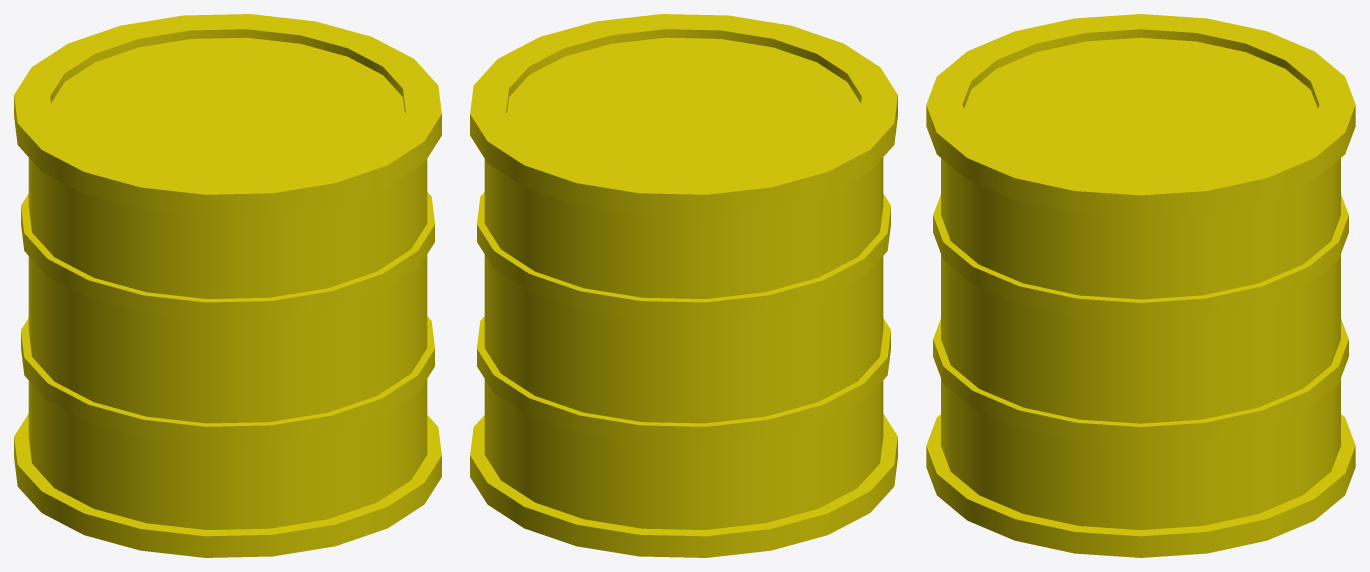
The model's file is Silo_low.fbx.
3 renders of one model, left to right at view 1: azimuth 30°, elevation 25°; view 2: azimuth 150°, elevation 25°; view 3: azimuth 270°, elevation 25°, orthographic.
Parts seen in each view (by area): view 1: polySurface2, lid; view 2: polySurface2, lid; view 3: polySurface2, lid.
Part boxes in pixels (<box>): polySurface2: <box>14,14,441,557</box>; lid: <box>51,37,404,179</box>; polySurface2: <box>470,14,897,557</box>; lid: <box>507,37,860,179</box>; polySurface2: <box>926,14,1355,557</box>; lid: <box>964,37,1317,179</box>.
Size of the model in its own units: 121 by 113 by 121.
